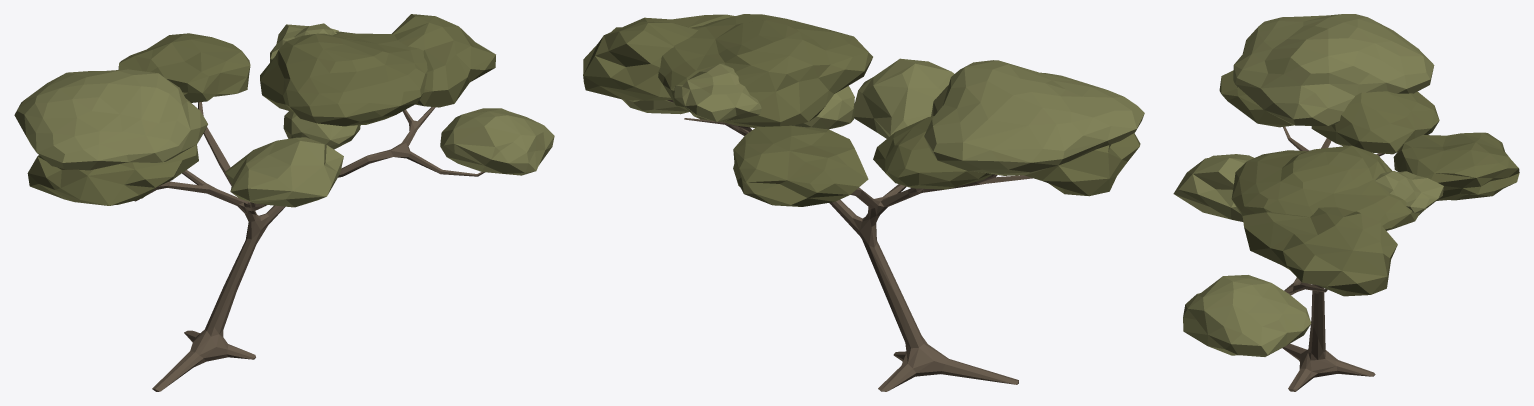
Rendered from SM_Envr_Nature_Tree_Large_09.fbx.
3 renders of one model, left to right at view 1: azimuth 30°, elevation 25°; view 2: azimuth 150°, elevation 25°; view 3: azimuth 270°, elevation 25°, orthographic. The views are drawn at different scales.
Visible parts, largest first — view 1: SM_Envr_Nature_Tree_Large_09; view 2: SM_Envr_Nature_Tree_Large_09; view 3: SM_Envr_Nature_Tree_Large_09.
Boxes of the visible parts, x1,y1,x2,y2 form: SM_Envr_Nature_Tree_Large_09: [14, 14, 554, 391]; SM_Envr_Nature_Tree_Large_09: [583, 14, 1144, 391]; SM_Envr_Nature_Tree_Large_09: [1173, 14, 1519, 391].
Size of the model in its own units: 1179 by 690 by 708.
